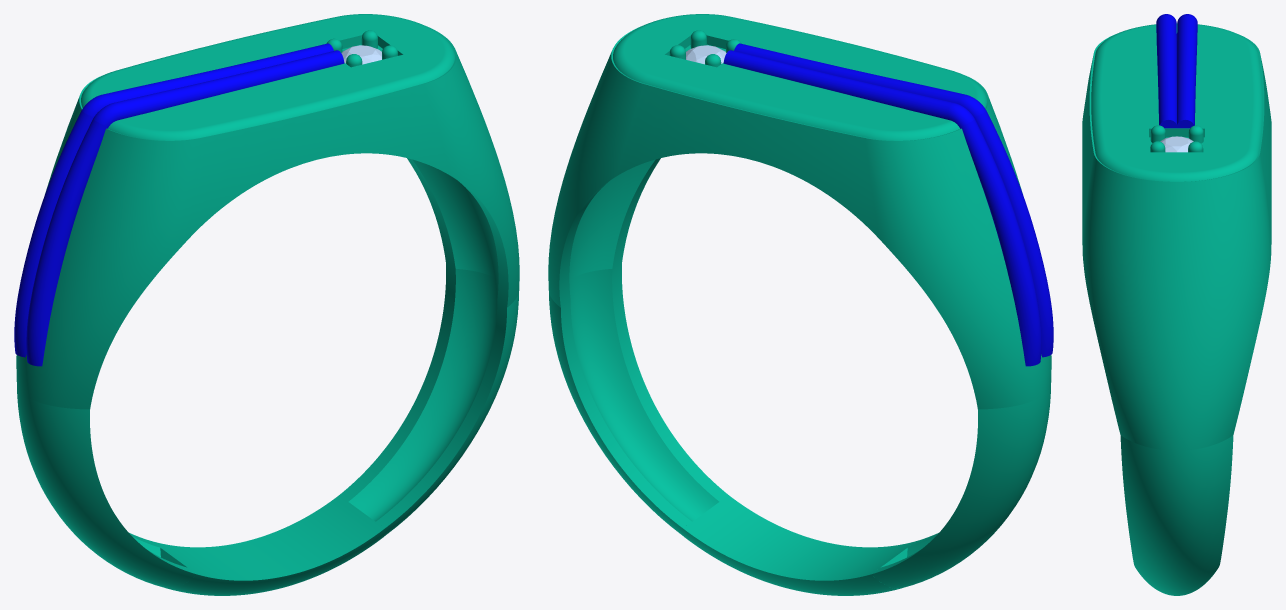
3 renders of one model, left to right at view 1: azimuth 30°, elevation 25°; view 2: azimuth 150°, elevation 25°; view 3: azimuth 270°, elevation 25°, orthographic. The views are drawn at different scales.
Visible parts, largest first — view 1: E 31.3dm; view 2: E 31.3dm; view 3: E 31.3dm, Diamond_Round.
Part boxes in pixels (<box>): E 31.3dm: <box>14,14,519,595</box>; E 31.3dm: <box>548,14,1053,595</box>; E 31.3dm: <box>1082,14,1271,595</box>; Diamond_Round: <box>1160,136,1193,152</box>.
Size of the model in its own units: 2.71 by 2.78 by 0.9826.
